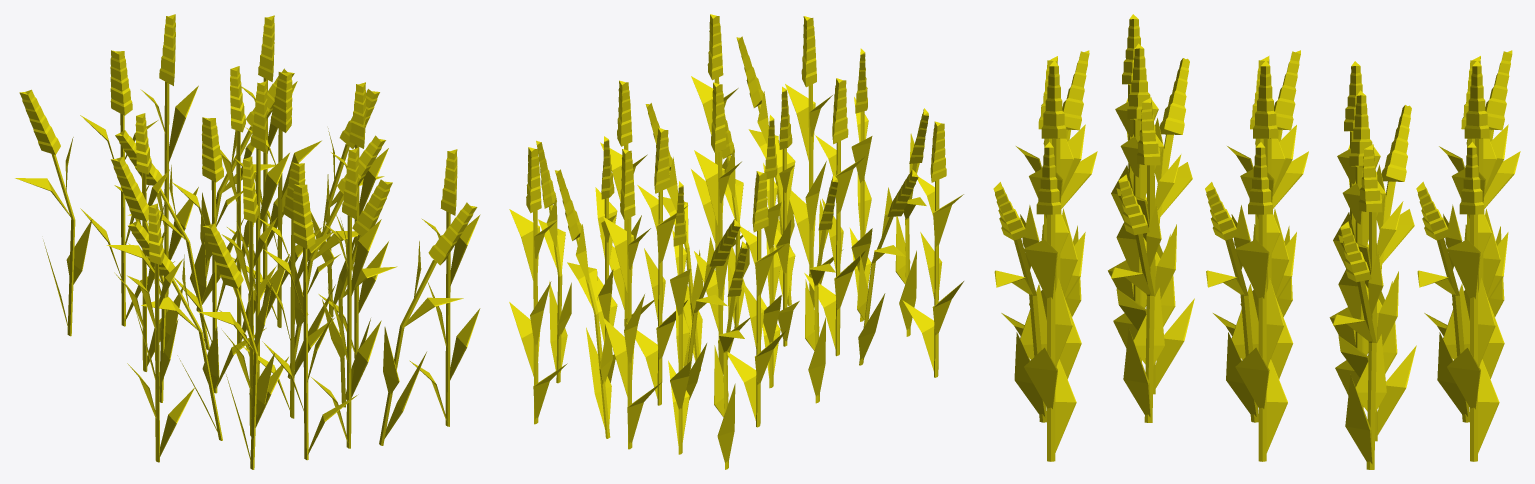
File: field .fbx
The picture shows the model from 3 angles, left to right: view 1: azimuth 30°, elevation 25°; view 2: azimuth 150°, elevation 25°; view 3: azimuth 270°, elevation 25°; orthographic projection. The views are drawn at different scales.
Visible parts, largest first — view 1: FieldOfWheat(1); view 2: FieldOfWheat(1); view 3: FieldOfWheat(1).
Part boxes in pixels (x1=…): FieldOfWheat(1): x1=15, y1=14, x2=480, y2=469; FieldOfWheat(1): x1=509, y1=14, x2=963, y2=469; FieldOfWheat(1): x1=993, y1=14, x2=1520, y2=469.
Size of the model in its own units: 1621 by 1345 by 1858.
